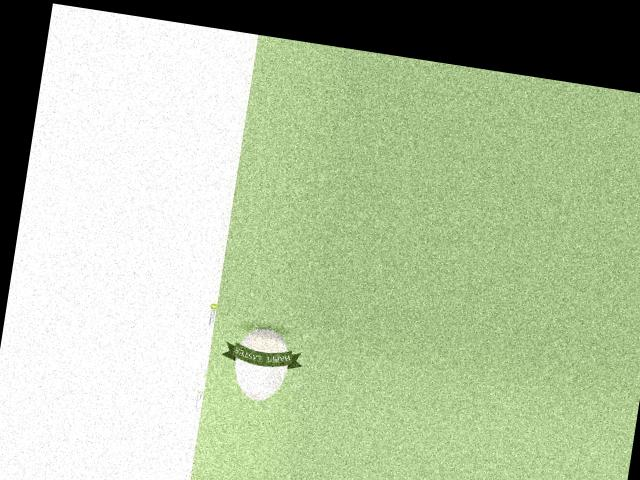egg: (229, 324, 291, 403)
